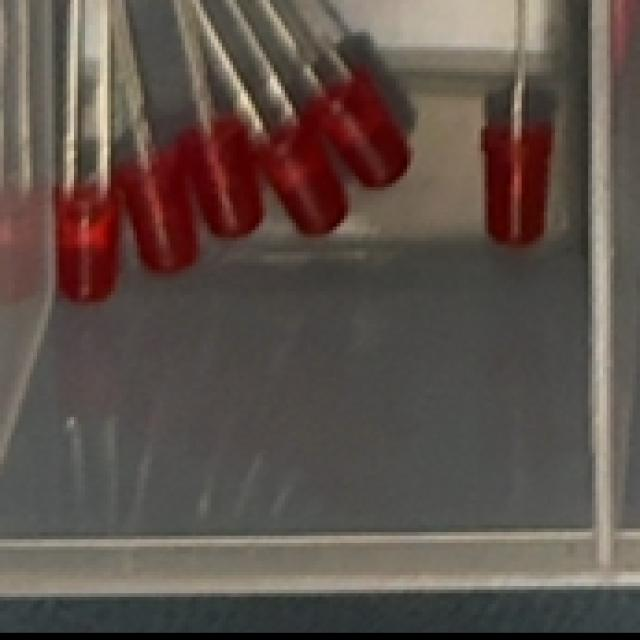RED_LED: (200, 0, 350, 236), (252, 0, 411, 187), (115, 0, 199, 275), (53, 0, 125, 309), (174, 0, 259, 241), (492, 0, 551, 241)
